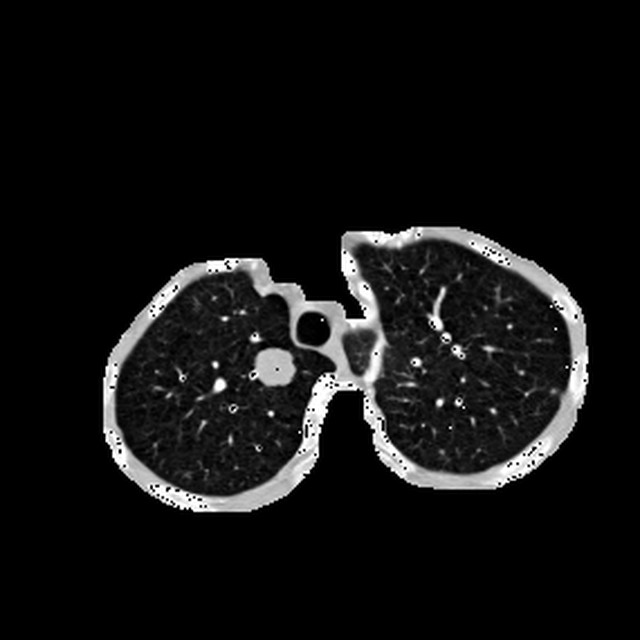PN: (252, 344, 296, 388)
